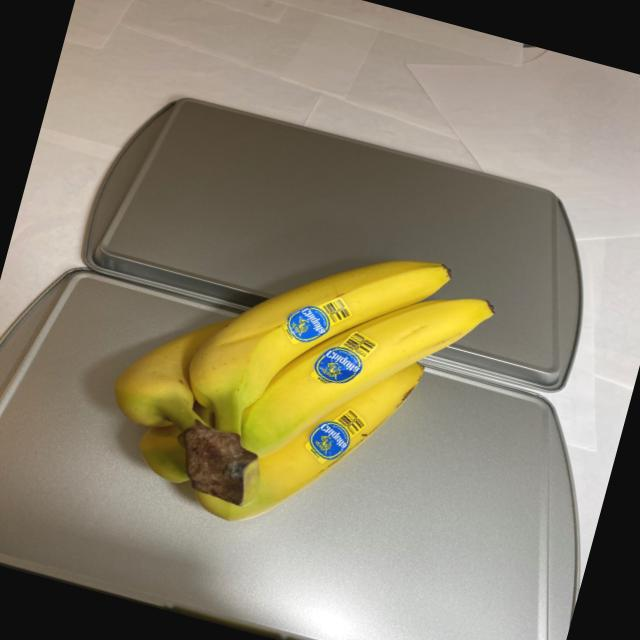banana: (84, 185, 502, 574)
